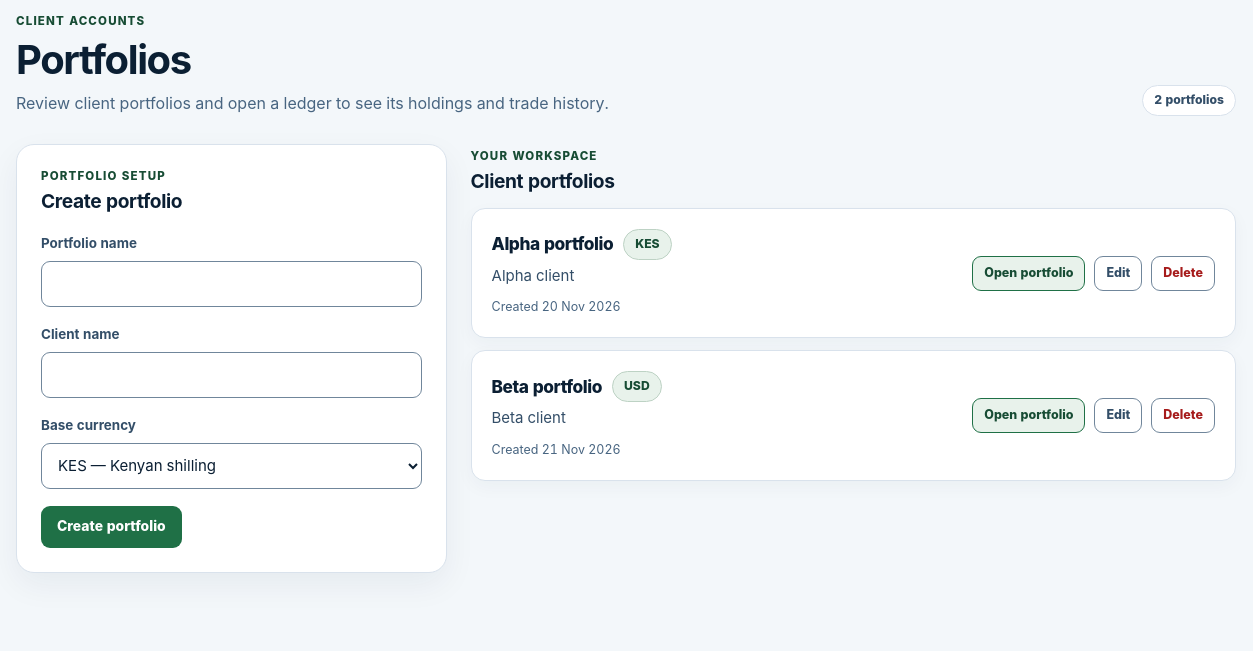
Test: PortfoliosPage deletion and long-name layout › resets to a blank create form after deleting the portfolio being edited
The width and height of the screenshot is (1253, 651).
Click the button with aria-label "Edit Alpha portfolio" at coordinates (1118, 273), box [1094, 256, 1142, 291]
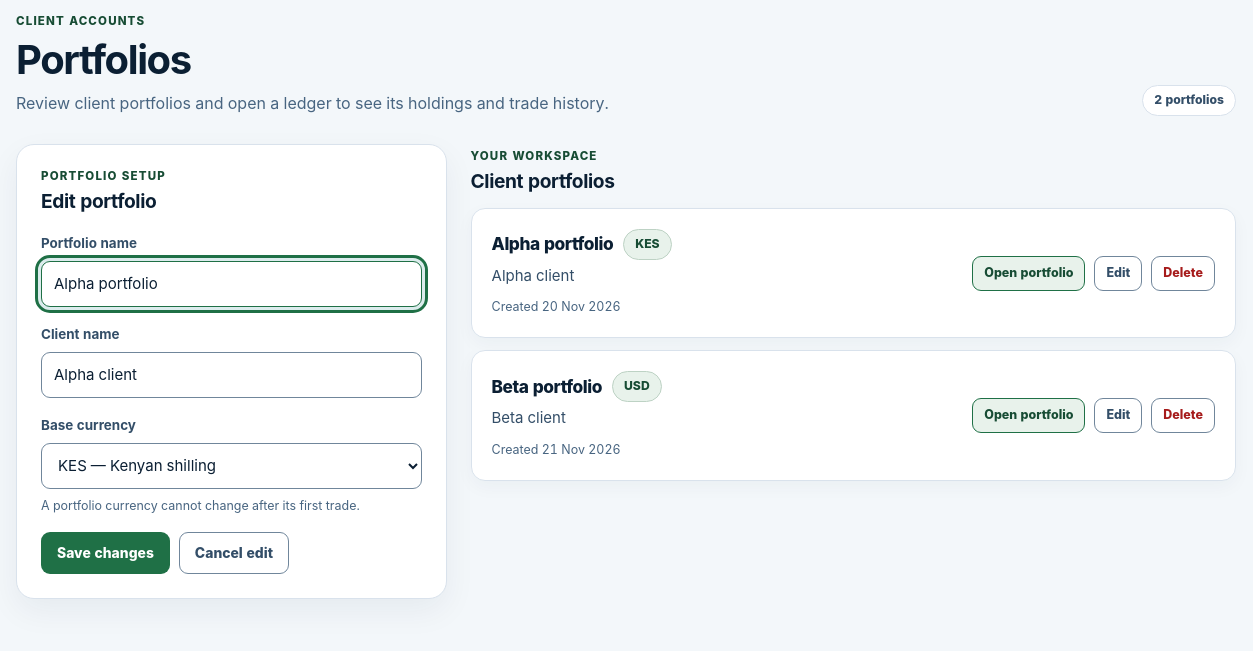
Replace the text in the field labelled "Portfolio name" with "Unsaved alpha edit" at coordinates (231, 284), box [41, 261, 422, 307]
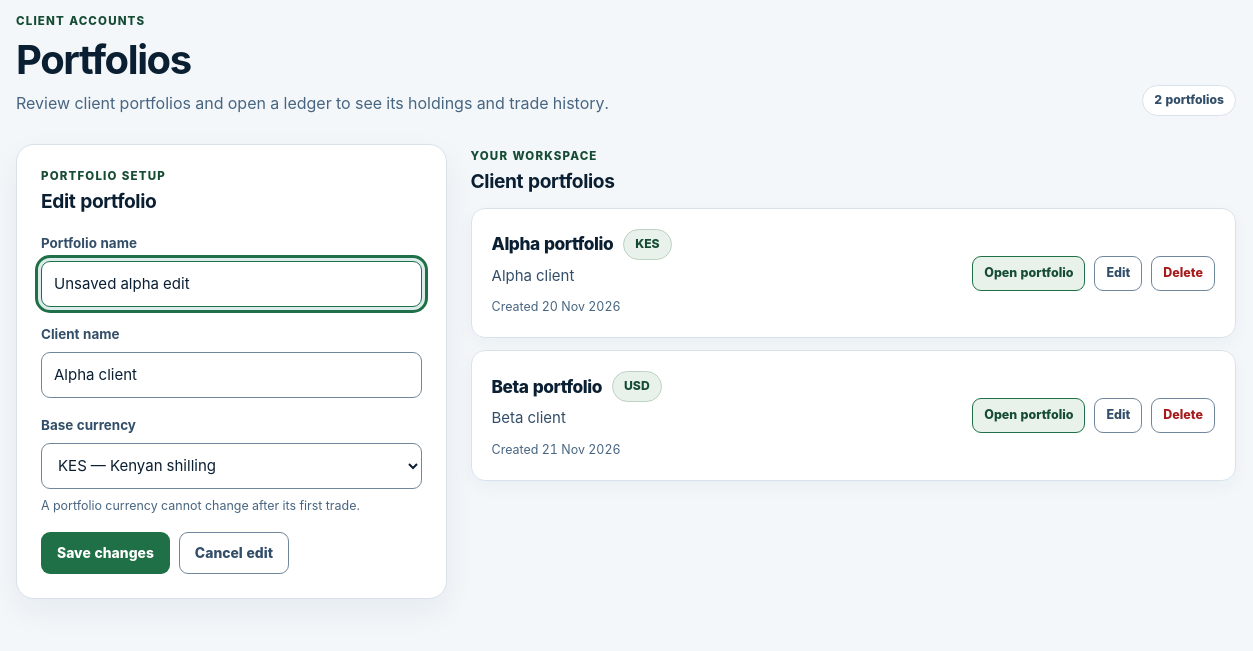
Replace the text in the field labelled "Client name" with "Unsaved client edit" at coordinates (231, 375), box [41, 352, 422, 398]
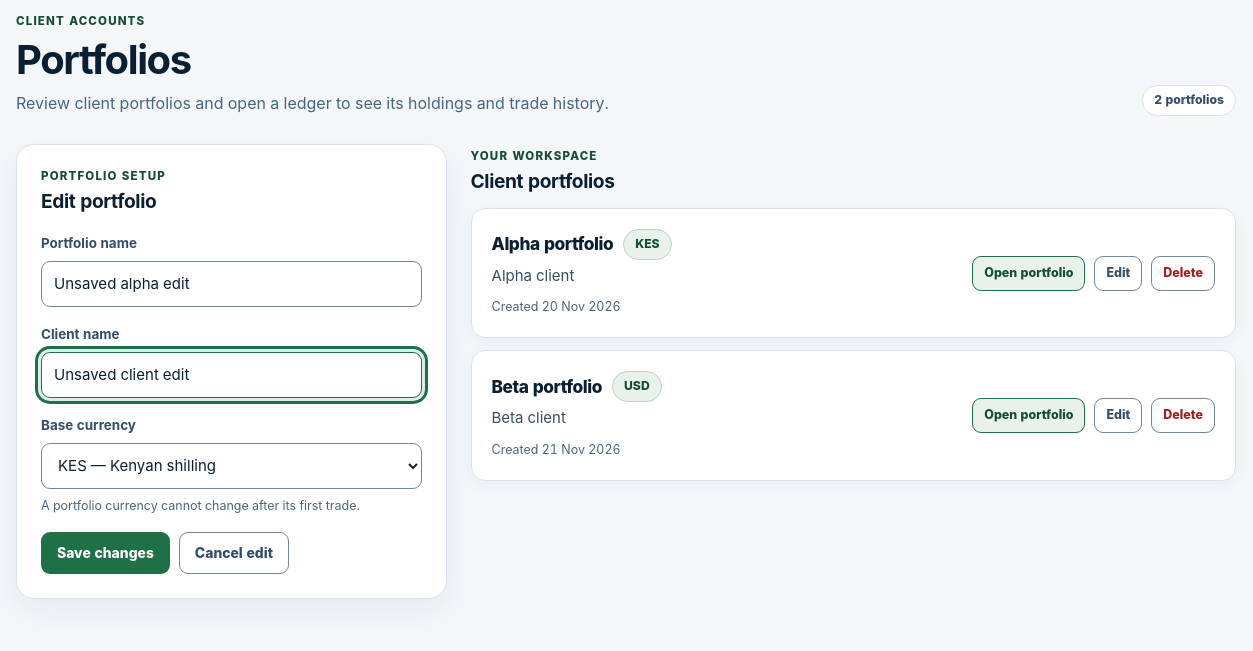
Click the button with aria-label "Delete Alpha portfolio" at coordinates (1183, 273), box [1151, 256, 1215, 291]
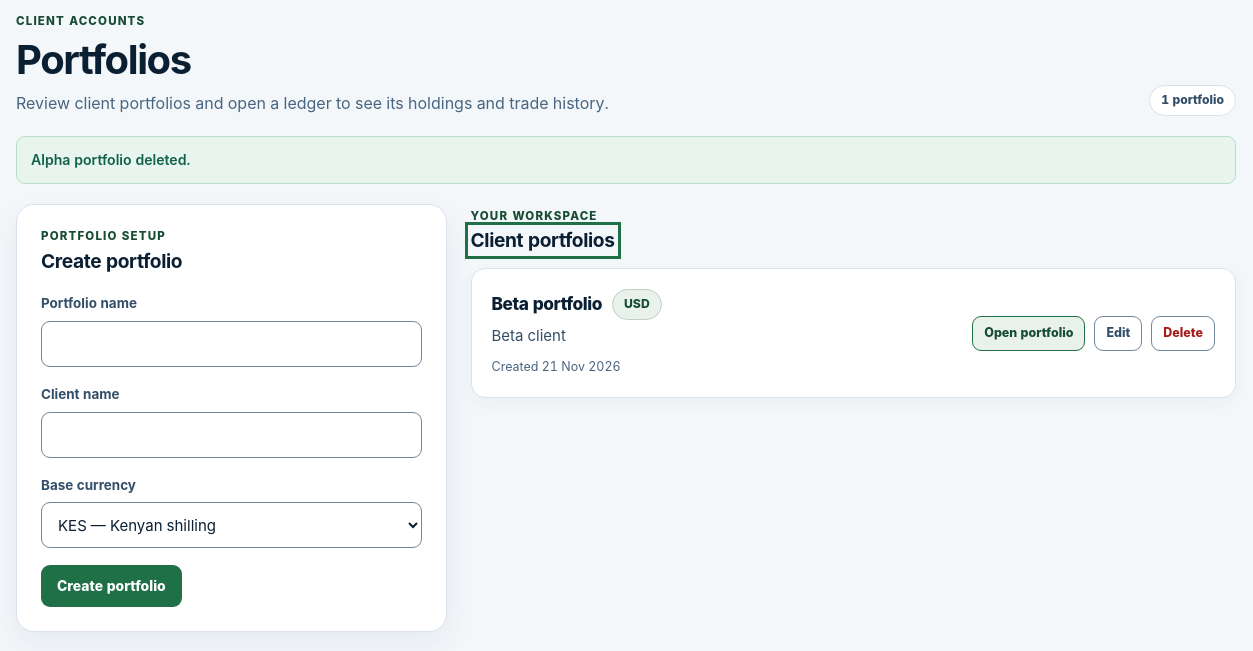
Check: the heading "Create portfolio" is shown, box [41, 249, 182, 274]
Check: the button "Create portfolio" is shown, box [41, 565, 182, 607]
Check: the button "Cancel edit" is gone
